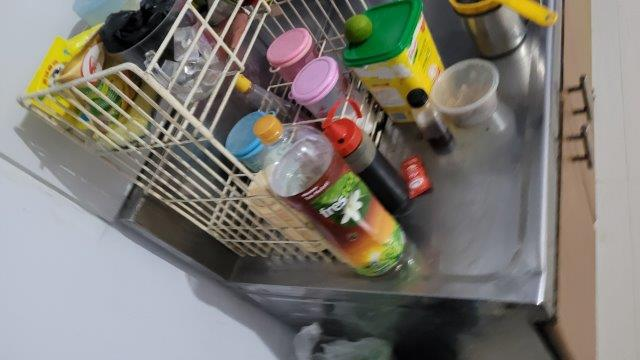botolplastik: (254, 114, 409, 276)
